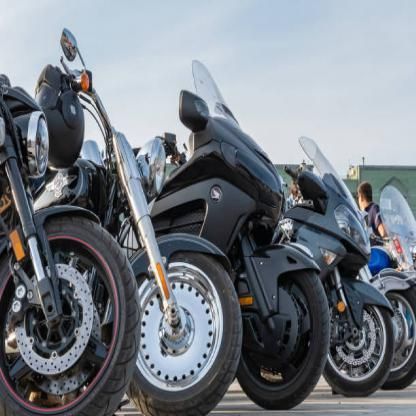Motorcycle: (65, 36, 241, 415), (162, 46, 332, 415), (0, 66, 143, 415), (295, 114, 398, 415)
